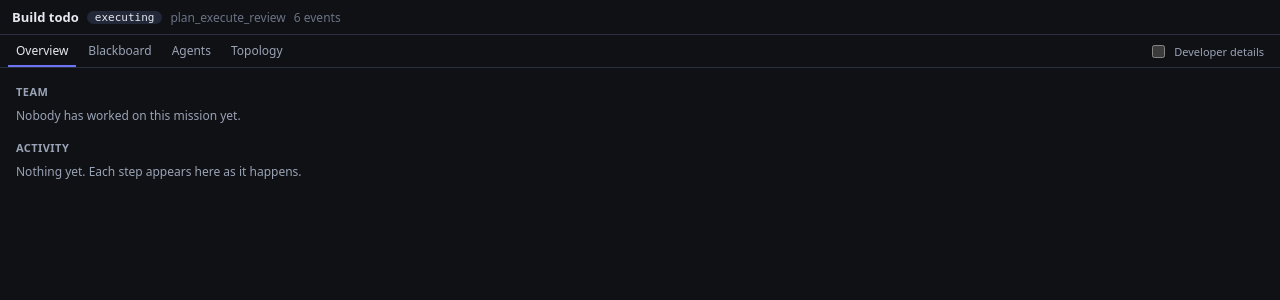
Test: ObservabilityView › shows the live Blackboard with workers, leases and dependencies
Click the tab "Blackboard".
click(120, 51)  # box [80, 35, 160, 67]
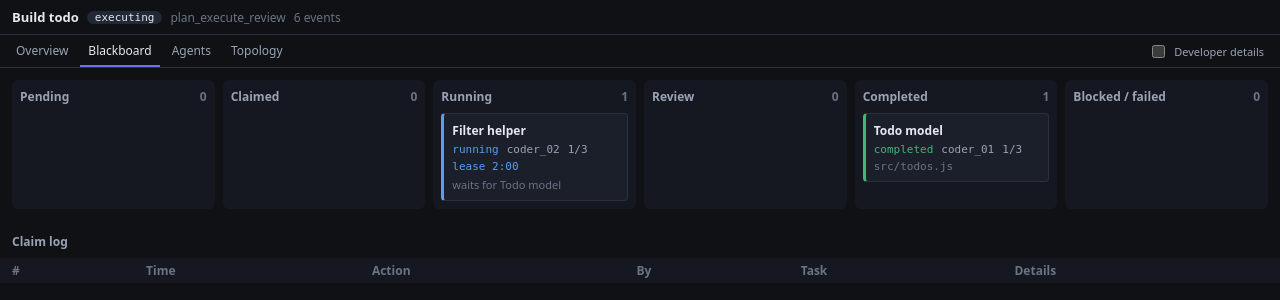
Result: the text "Filter helper" is shown at [452, 122, 526, 139]
Result: the element "Running" shows "coder_02" at [507, 143, 560, 156]
Result: the element "Completed" shows "Todo model" at [874, 122, 943, 139]
